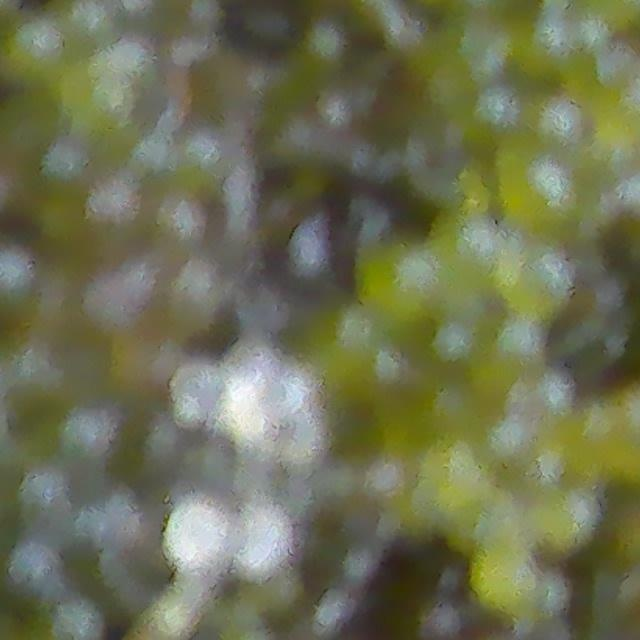SeaGrape: (163, 498, 232, 577), (0, 15, 68, 90), (238, 500, 293, 572), (217, 382, 270, 440), (171, 362, 225, 417), (259, 370, 307, 421), (225, 335, 274, 382)
